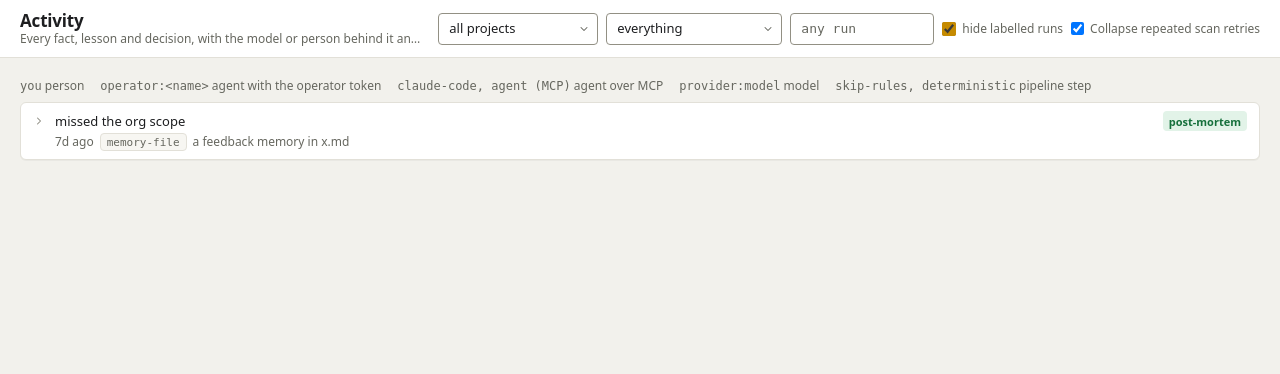
Test: a context item's why that is only a field name is not printed as a reason
This screenshot has width=1280, height=374.
Click the text "missed the org scope".
click(120, 120)  # box [55,112,185,130]
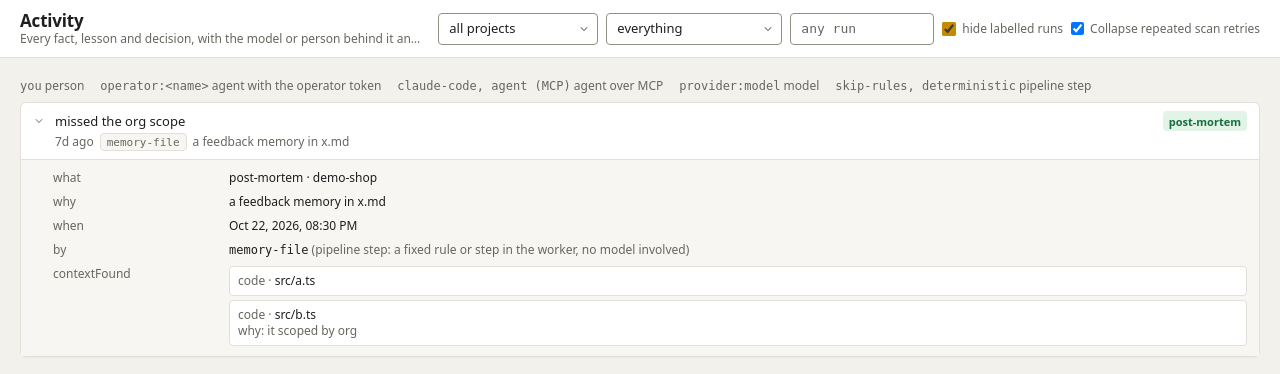
Result: the text "why: it scoped by org" is shown at [238,322,357,339]
